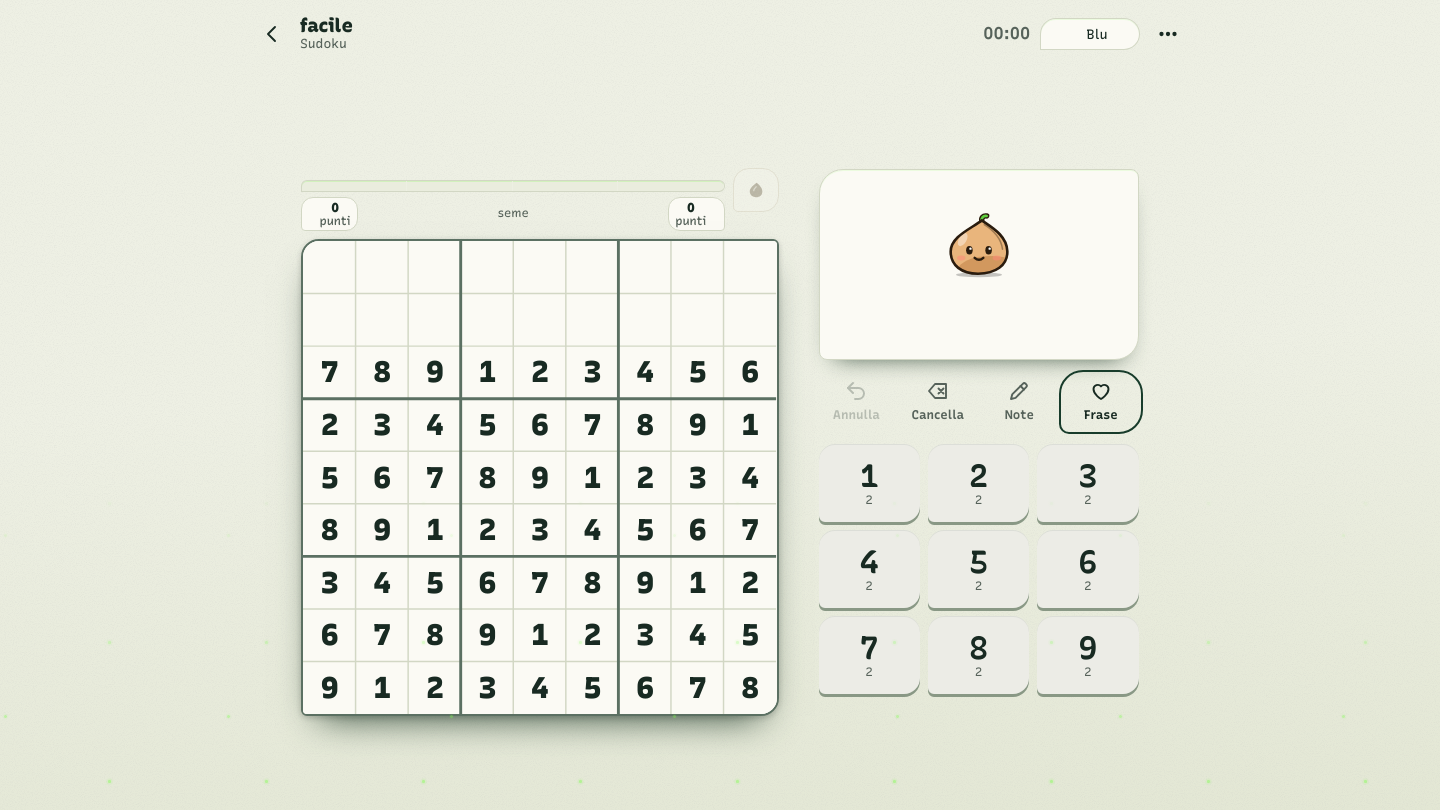
Test: partita: tastiera, menù e fogli insieme › il foglio delle frasi: focus dentro, Esc lo chiude e il focus torna al cuore
Click the button with test id "manda-frase". click: (1101, 402)
box: 1063,374 -> 1138,430
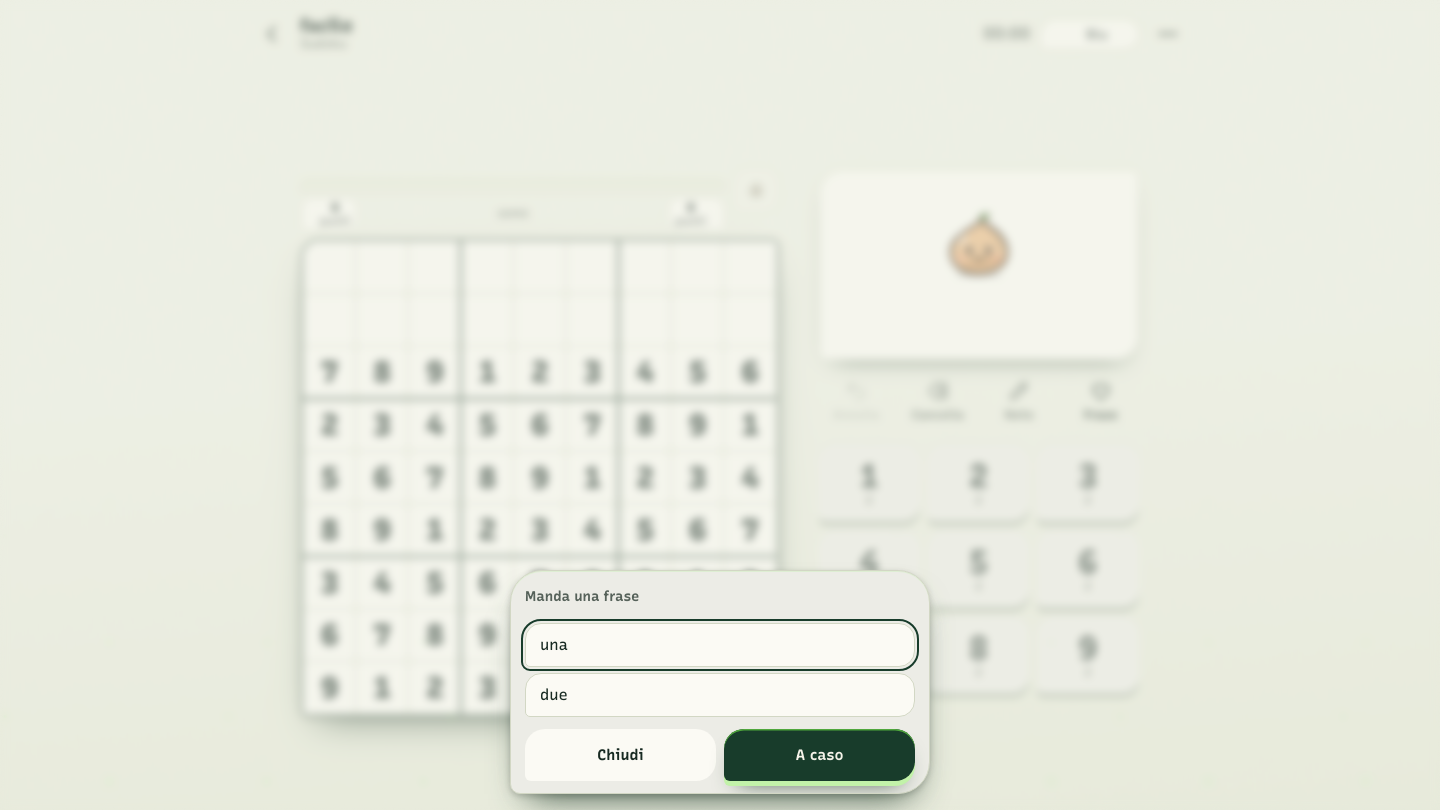
Press Escape in the button "una", box 525,623 -> 915,667
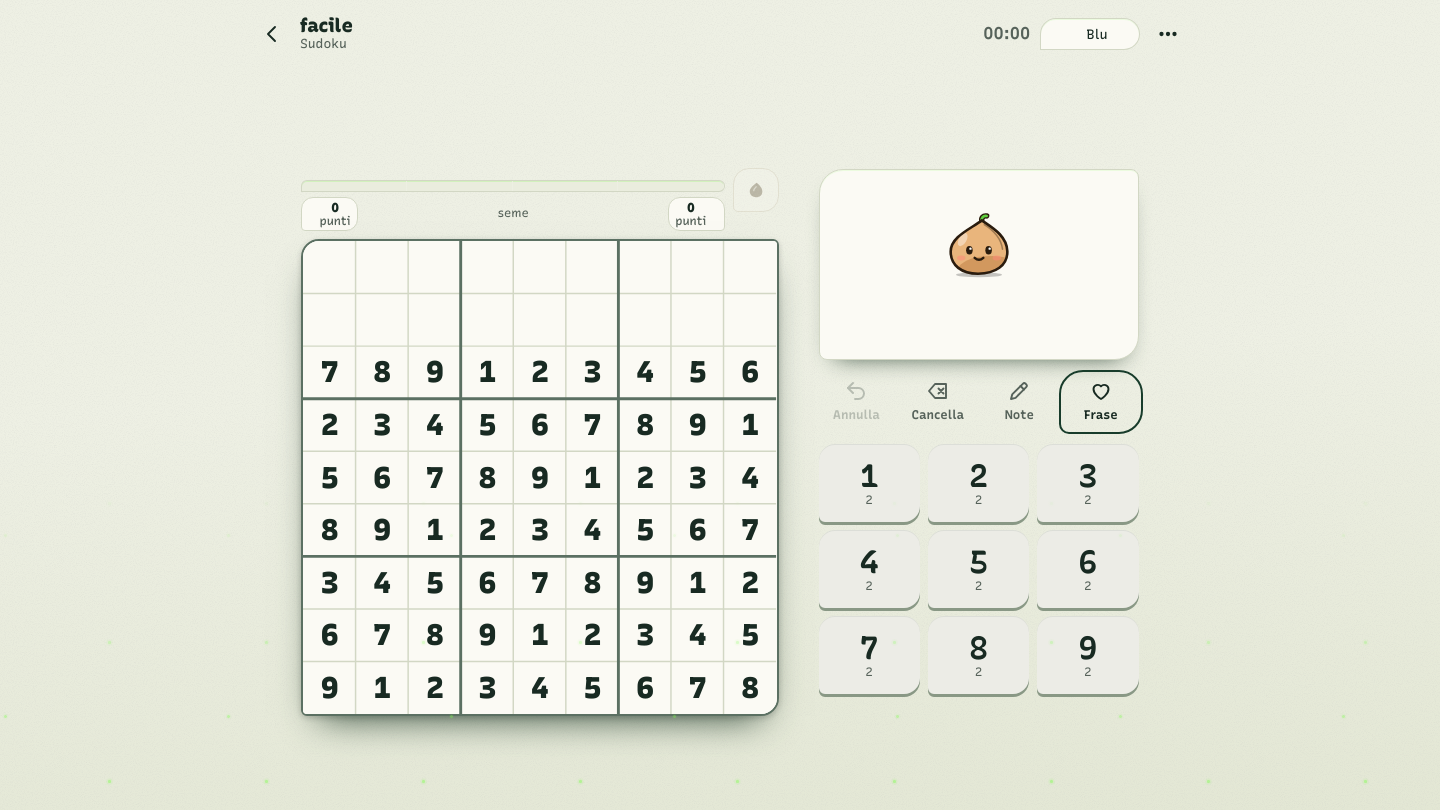
Now the dialog with test id "foglio-frasi" is gone
